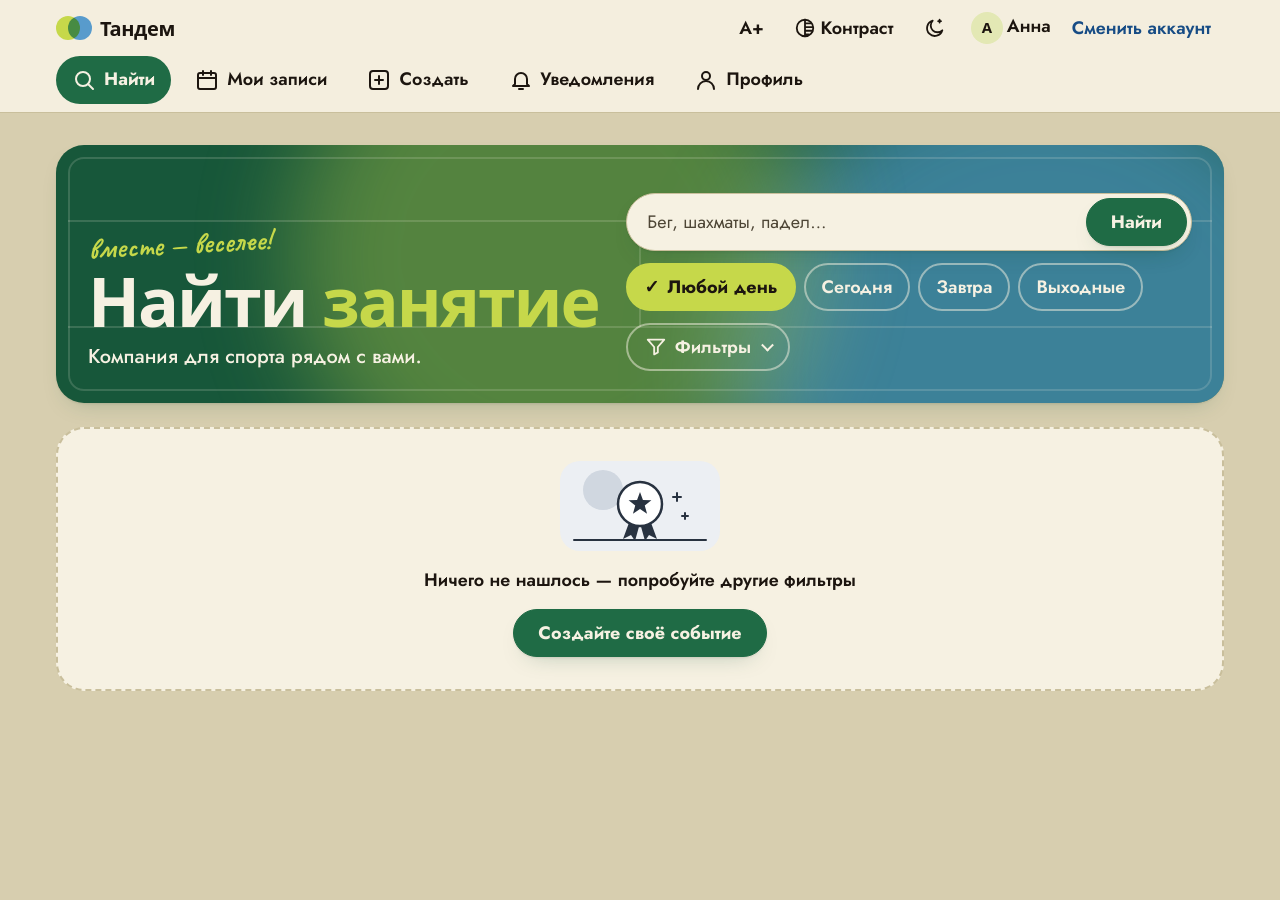
Test: переключатели «Крупный текст» и «Высокий контраст» › после выхода и входа другим аккаунтом сбой прежнего не показывается
The width and height of the screenshot is (1280, 900).
Expected: the button "Сменить аккаунт" is shown, [1059,4,1224,52]
Step 1. Click the button named "Крупный текст" → (752, 28), box [726,4,777,52]
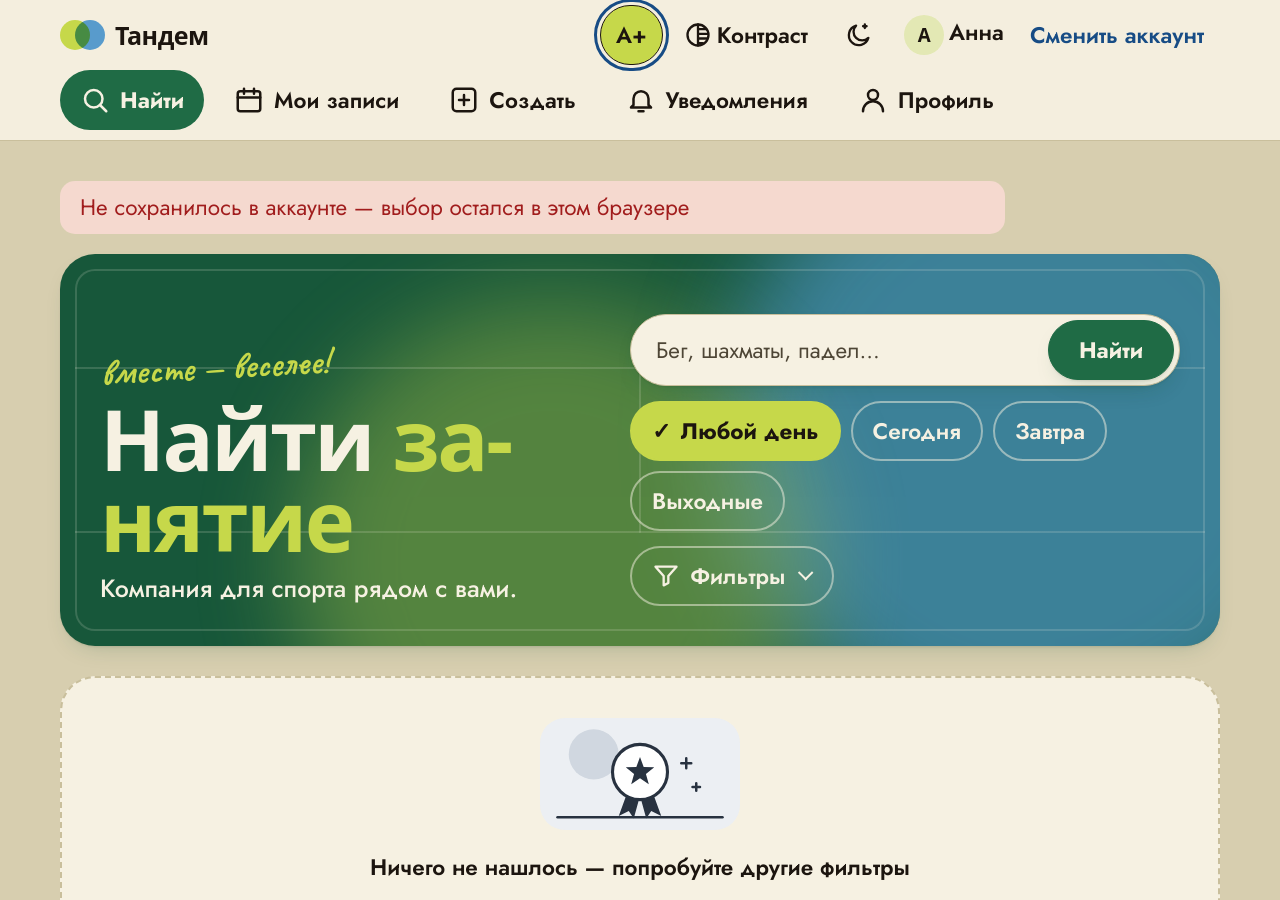
Expected: the message "Не сохранилось в аккаунте — выбор остался в этом браузере" is shown, [60,181,1005,234]
Step 2. Click the button "Сменить аккаунт" → (1117, 35), box [1014,5,1220,65]
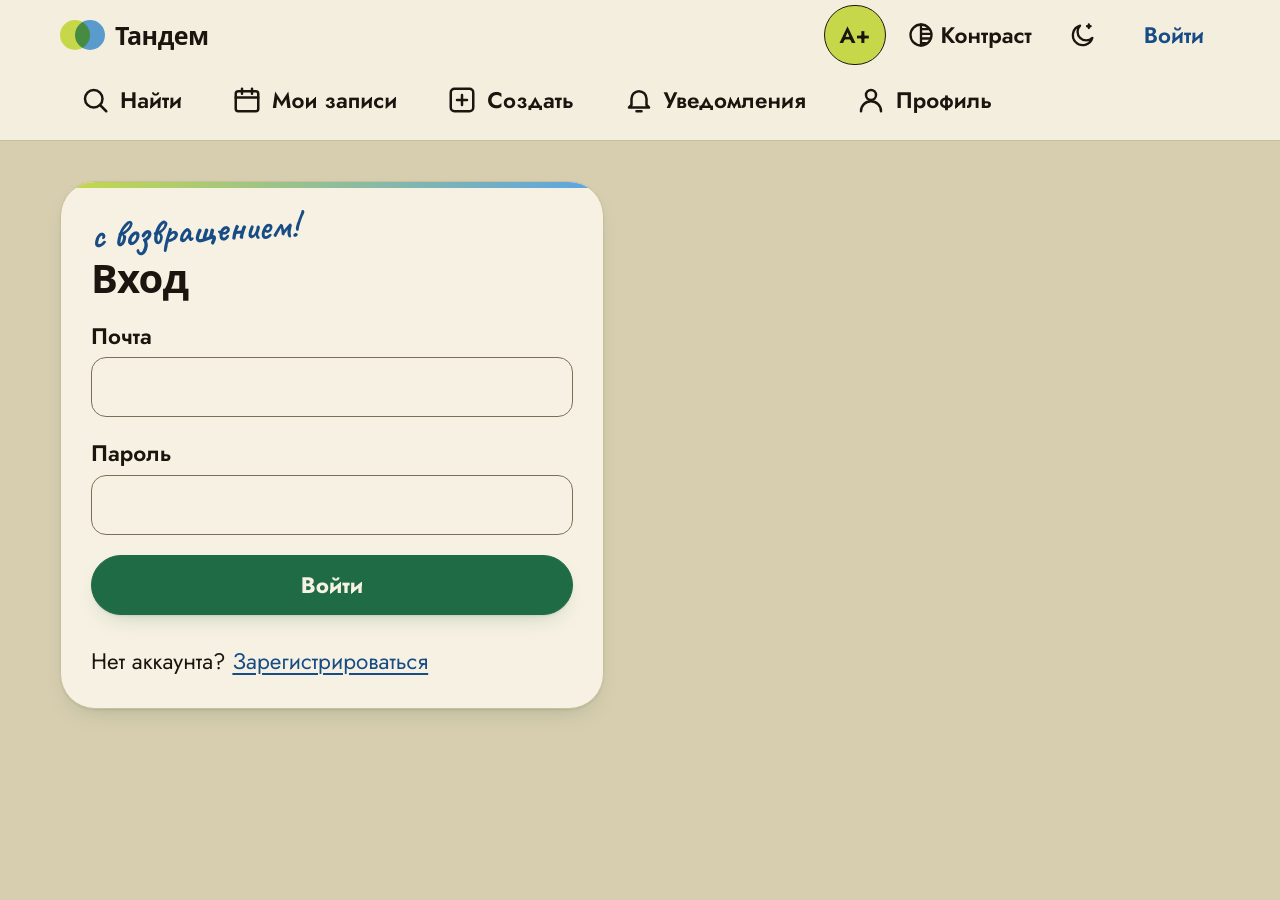
Step 3. Type "igor@demo" into the field labelled "Почта" → (332, 387), box [91,357,573,417]
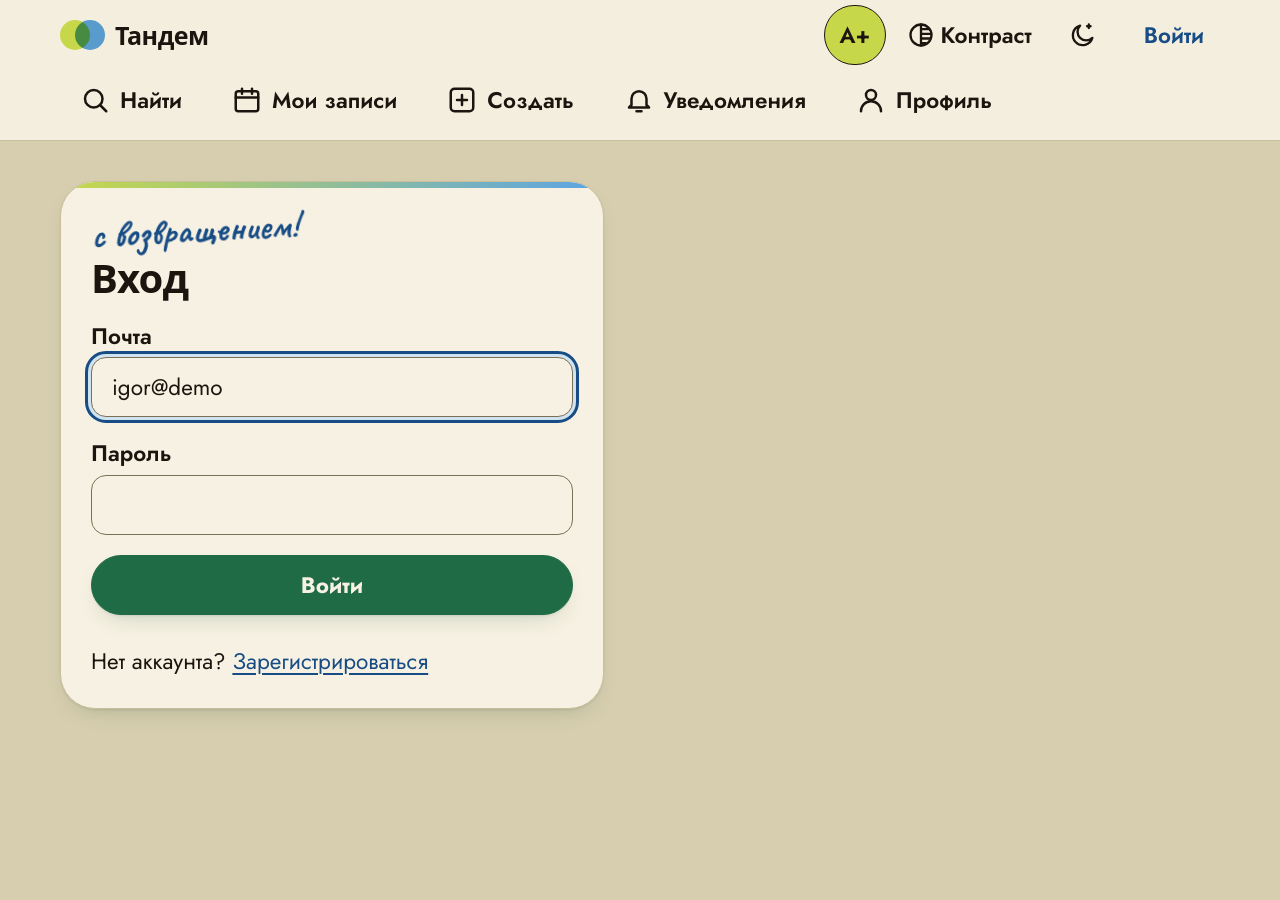
Step 4. Type "demo" into the password field labelled "Пароль" → (332, 505), box [91,475,573,535]
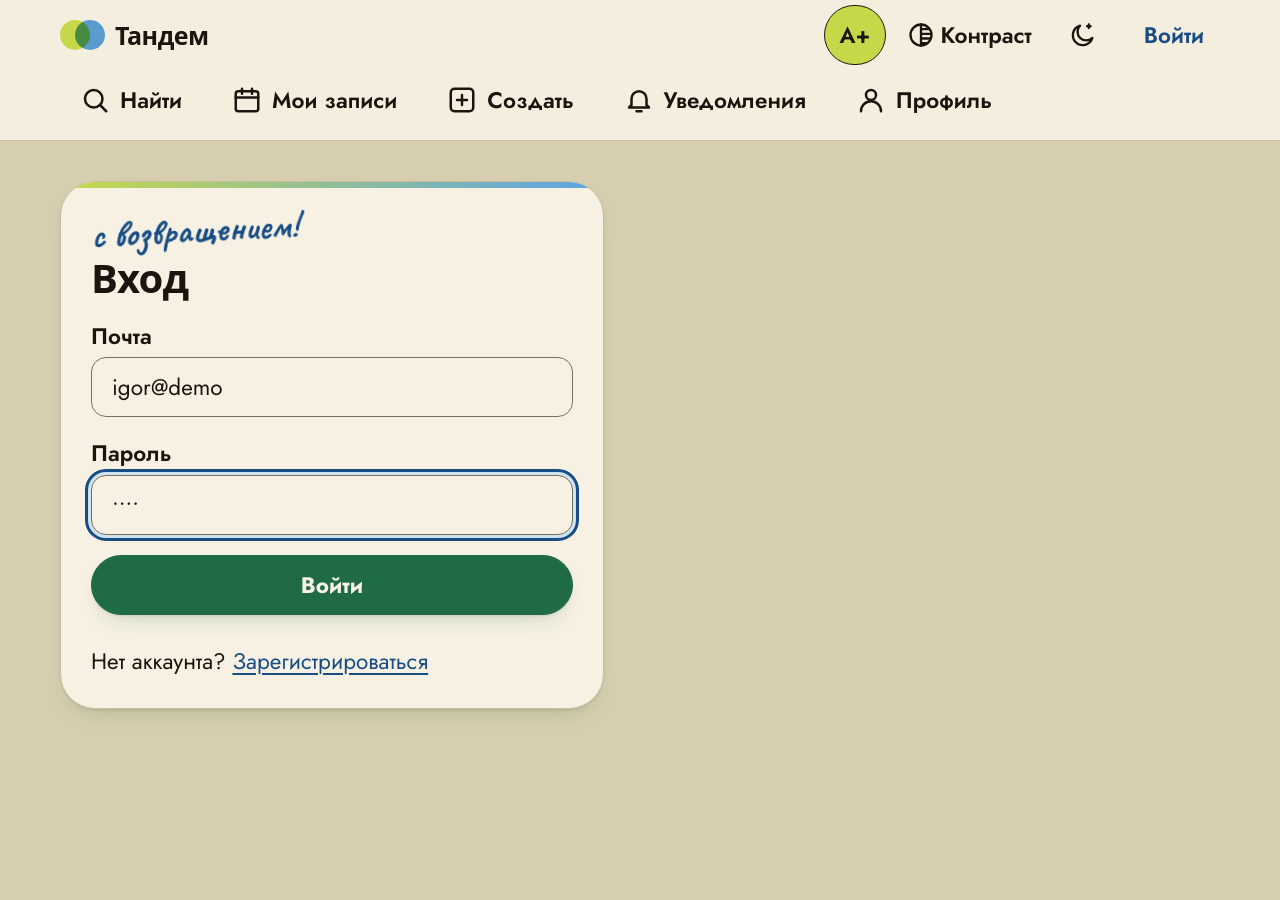
Step 5. Click the button "Войти" → (332, 585), box [91,555,573,615]
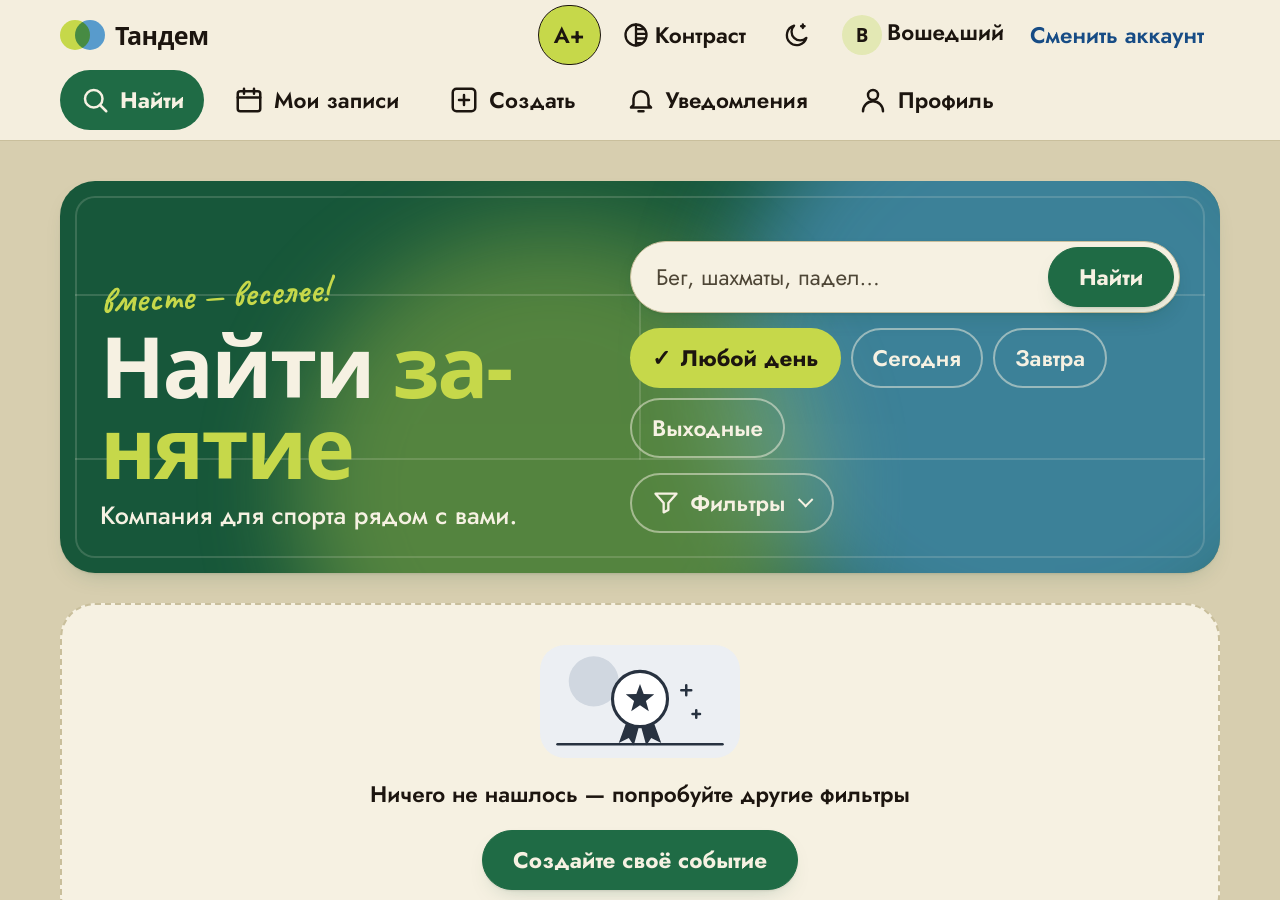
Expected: the text "Не сохранилось в аккаунте" is not shown
Expected: the button "Сменить аккаунт" is shown, [1014,5,1220,65]
